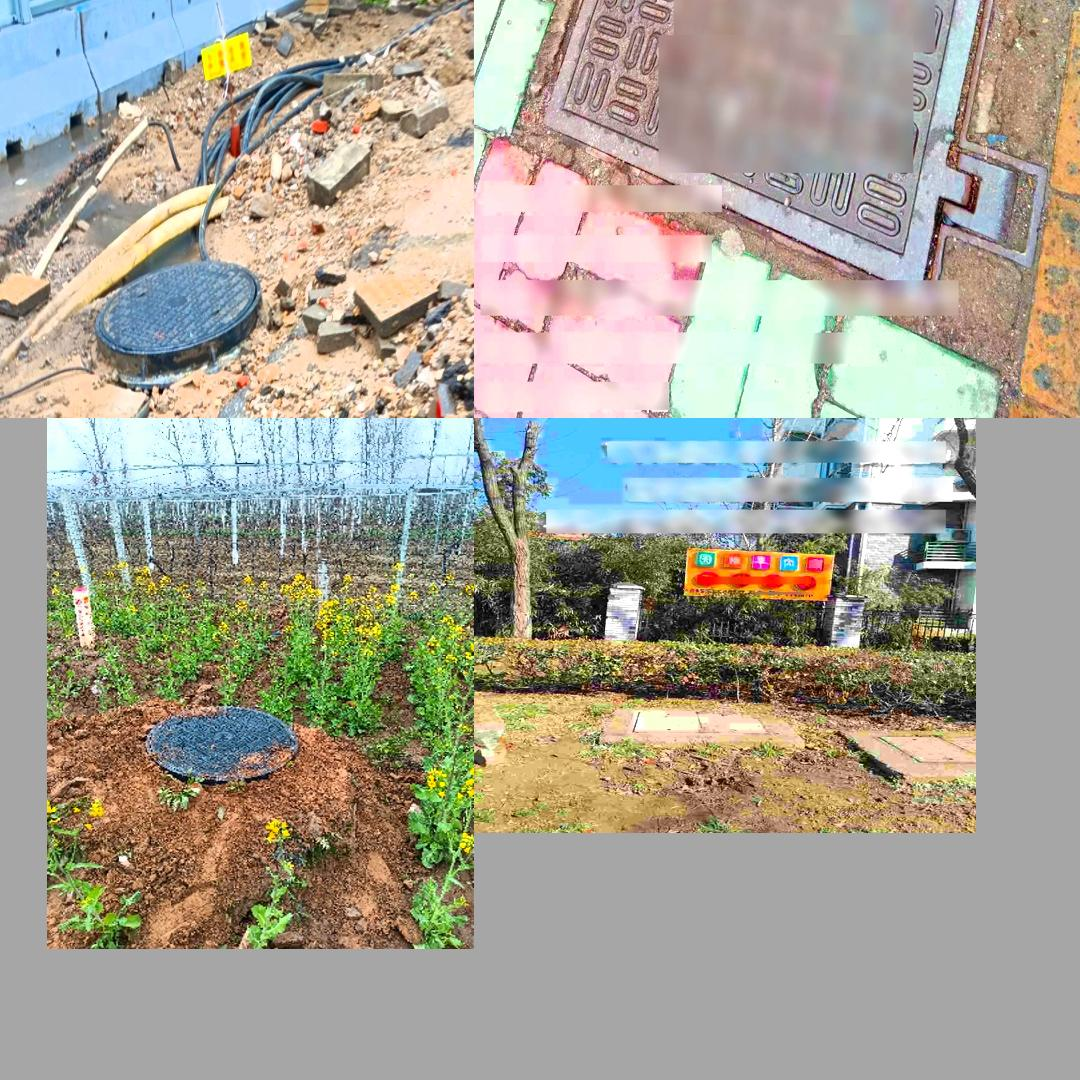good: (539, 0, 1080, 306), (94, 261, 262, 357), (148, 707, 299, 780), (625, 709, 771, 733), (874, 735, 974, 762)
